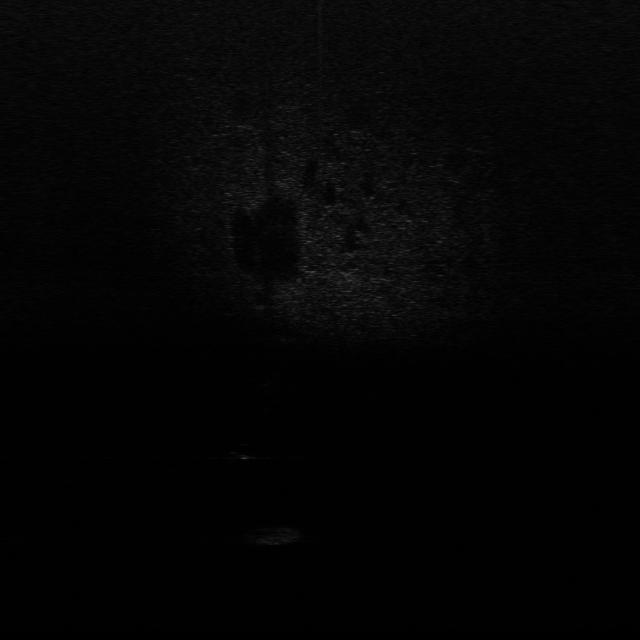ball: (230, 440, 260, 463)
circle cage: (244, 523, 304, 548)
human body: (260, 368, 280, 414)
